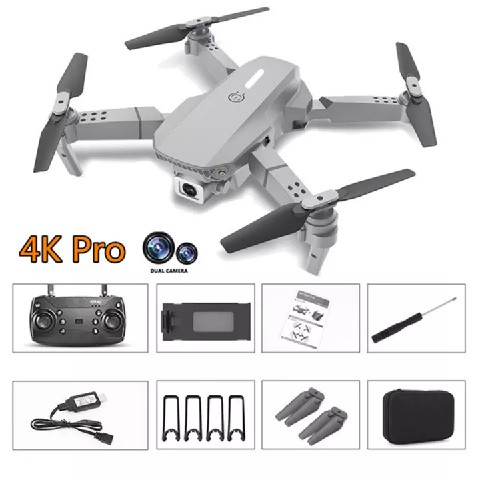maybay_khongnguoilai: (26, 8, 437, 267)
